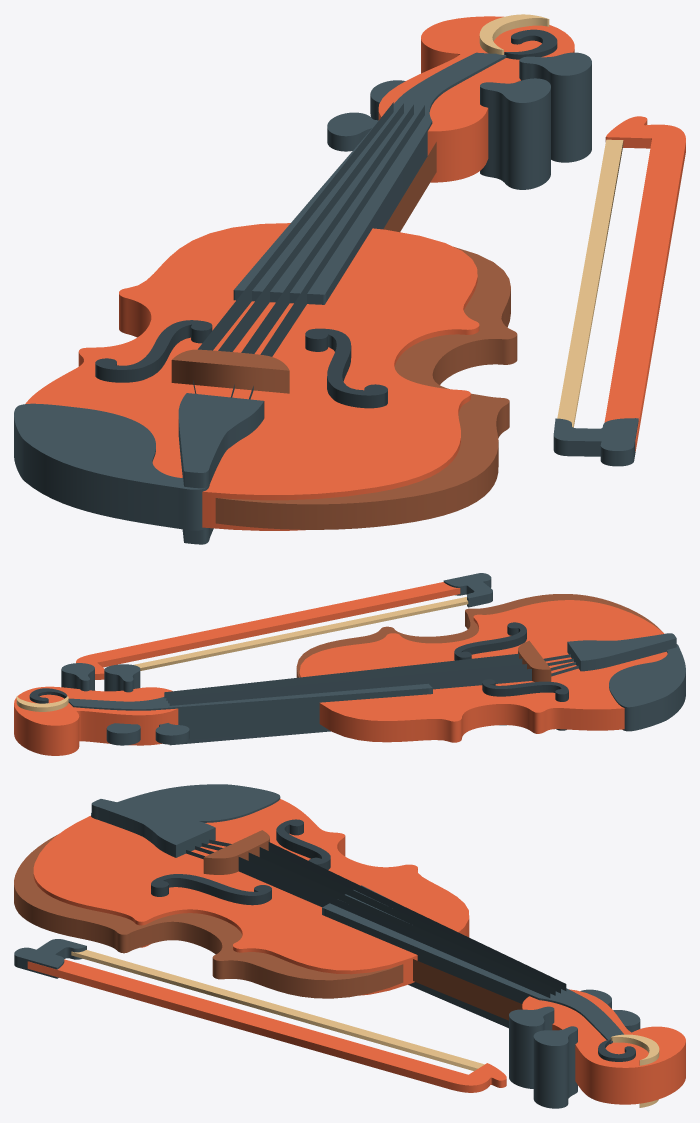
Rendered from emoji_u1f3bb.glb.
3 views of the same model, one above another, from view 1: azimuth 30°, elevation 25°; view 2: azimuth 150°, elevation 25°; view 3: azimuth 270°, elevation 25° (orthographic). The views are drawn at different scales.
Parts seen in each view (by area): view 1: emoji_u1f3bb; view 2: emoji_u1f3bb; view 3: emoji_u1f3bb.
Part boxes in pixels (bbox=[...]): emoji_u1f3bb: bbox=[14, 14, 685, 544]; emoji_u1f3bb: bbox=[14, 573, 685, 755]; emoji_u1f3bb: bbox=[14, 784, 685, 1108].
Size of the model in its own units: 0.0338 by 0.0034 by 0.0331.
